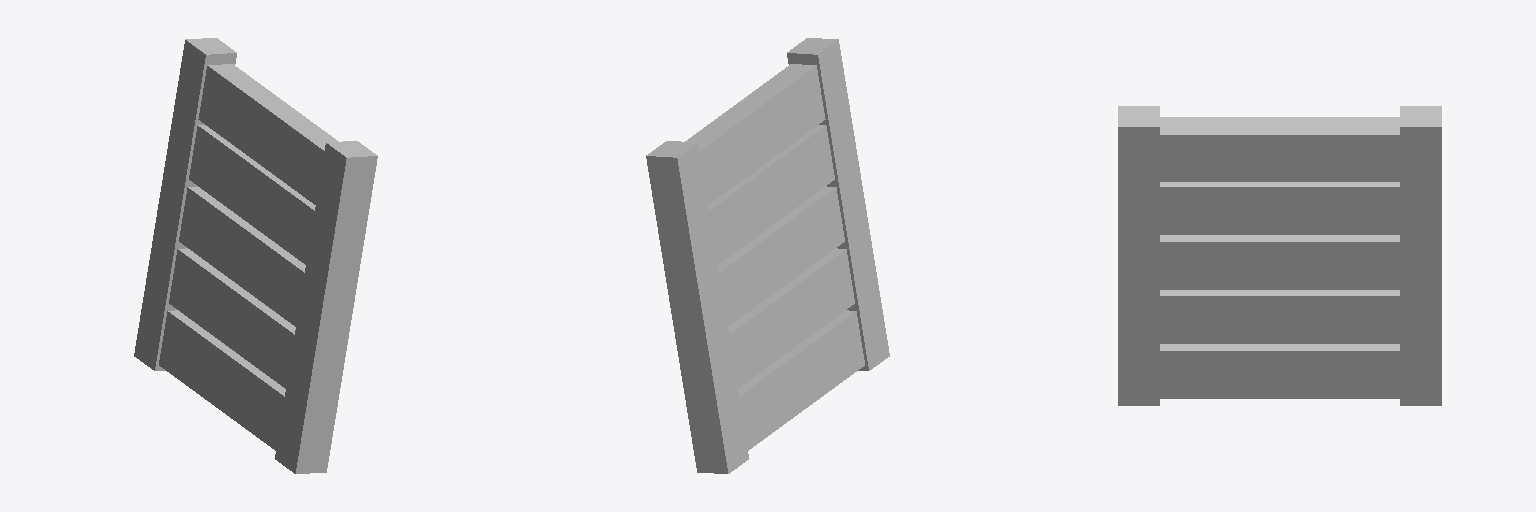
The model's file is Option8_P.obj.
The picture shows the model from 3 angles: view 1: azimuth 30°, elevation 25°; view 2: azimuth 150°, elevation 25°; view 3: azimuth 270°, elevation 25°; orthographic projection.
Parts seen in each view (by area): view 1: Cube.025; view 2: Cube.025; view 3: Cube.025.
Part boxes in pixels (x1,y1,x2,y2): Cube.025: (134,38,377,473); Cube.025: (646,38,889,473); Cube.025: (1118,106,1441,405).
Bounding box in the file's own units: 0.6511 × 2.34 × 2.21.